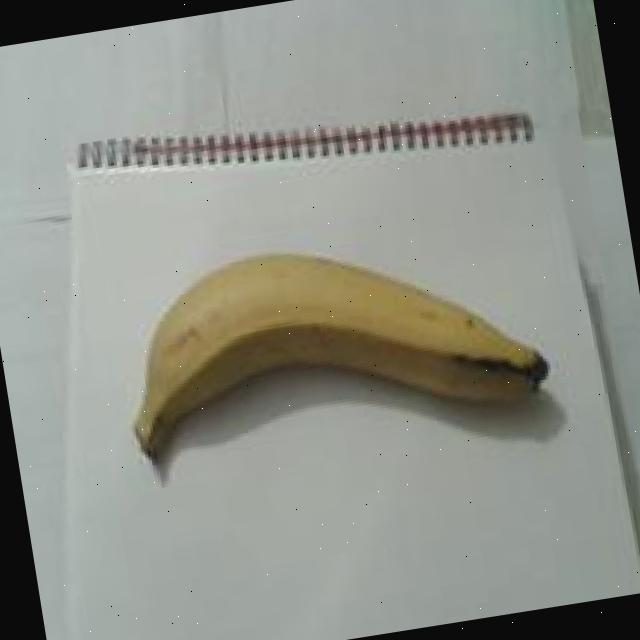banana: (82, 207, 558, 519)
